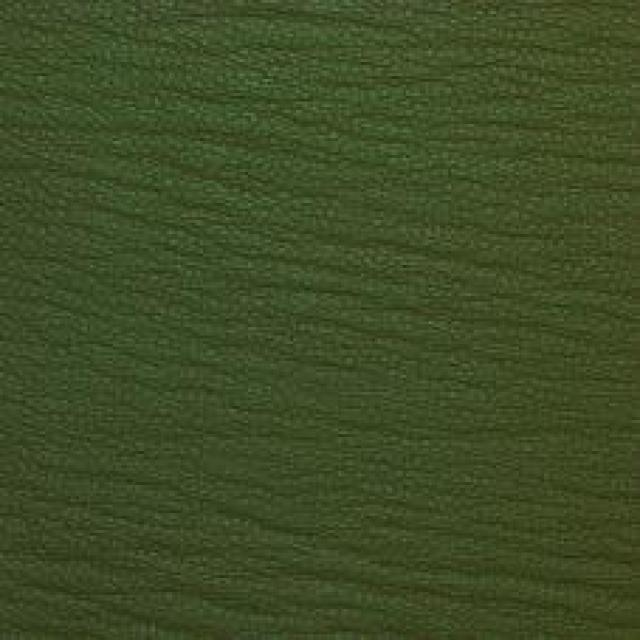Growth Marks: (288, 196, 590, 367), (105, 40, 459, 178), (120, 488, 549, 600)
